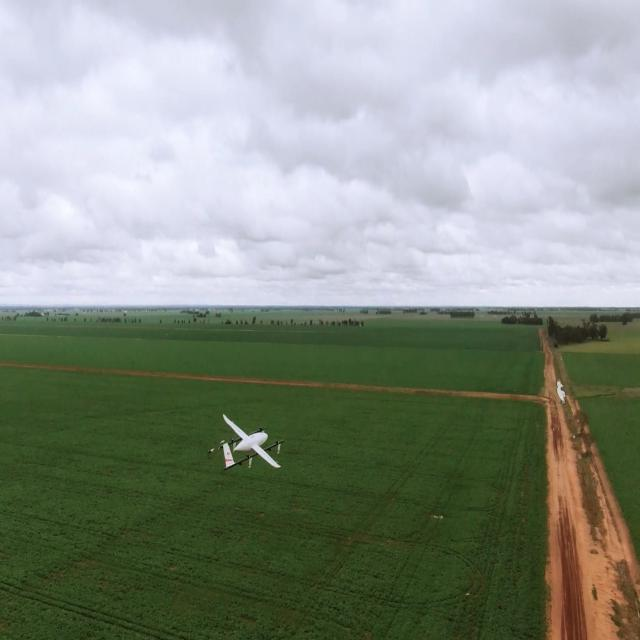iha: (239, 443, 263, 448)
